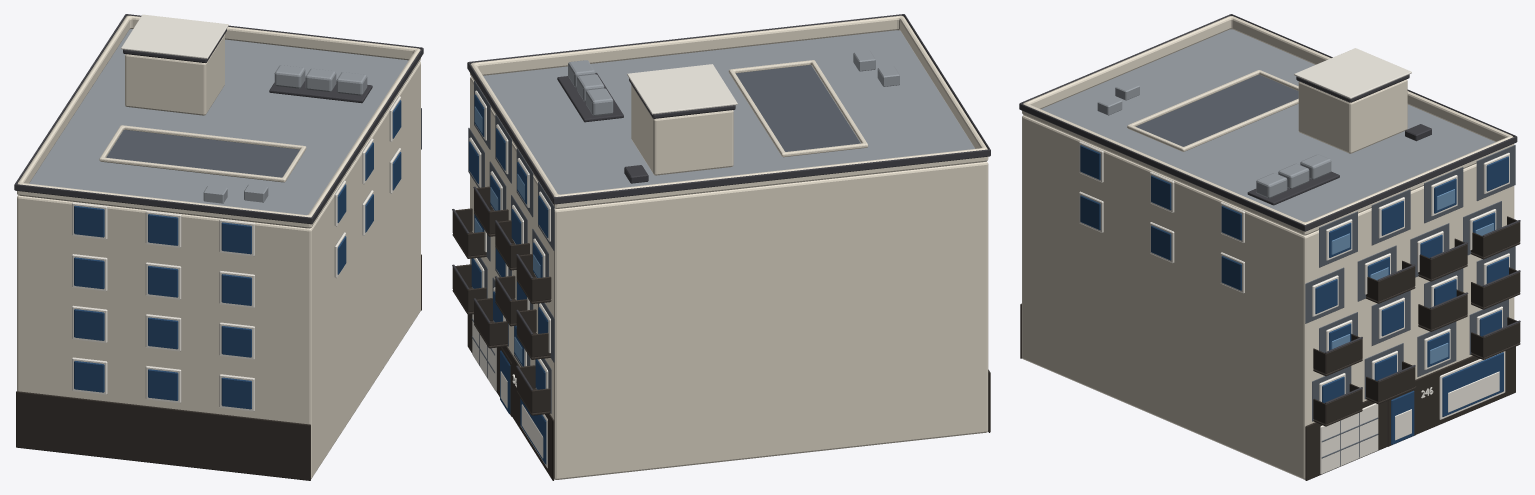
File: 246-ritch.optimized.glb
3 renders of one model, left to right at view 1: azimuth 30°, elevation 25°; view 2: azimuth 150°, elevation 25°; view 3: azimuth 270°, elevation 25°, orthographic. The views are drawn at different scales.
Parts seen in each view (by area): view 1: part_Toy_sand_Toy_steel, part_Toy_ink, part_Toy_sand, part_Toy_glass, part_Toy_trim, part_Toy_roofd, part_Toy_slate, part_Toy_steel; view 2: part_Toy_sand_Toy_steel, part_Toy_sand, part_Toy_ink, part_Toy_slate, part_Toy_roofd, part_Toy_trim, part_Toy_glass, part_Toy_steel, part_Toy_glass_Glow, part_Toy_trim_Glow; view 3: part_Toy_sand_Toy_steel, part_Toy_sand, part_Toy_slate, part_Toy_ink, part_Toy_glass, part_Toy_trim, part_Toy_roofd, part_Toy_steel, part_Toy_trim_Glow, part_Toy_glass_Glow.
Boxes of the visible parts, x1,y1,x2,y2 form: part_Toy_sand_Toy_steel: (17, 29, 420, 478); part_Toy_ink: (16, 254, 421, 480); part_Toy_sand: (17, 15, 420, 228); part_Toy_glass: (74, 100, 401, 409); part_Toy_trim: (72, 14, 400, 411); part_Toy_roofd: (14, 14, 423, 224); part_Toy_slate: (106, 108, 421, 177); part_Toy_steel: (203, 65, 367, 203); part_Toy_sand_Toy_steel: (470, 30, 988, 479); part_Toy_sand: (470, 15, 988, 208); part_Toy_ink: (452, 186, 990, 480); part_Toy_slate: (468, 65, 860, 413); part_Toy_roofd: (452, 14, 990, 390); part_Toy_trim: (469, 64, 737, 468); part_Toy_glass: (469, 94, 548, 464); part_Toy_steel: (568, 50, 899, 115); part_Toy_glass_Glow: (474, 106, 540, 363); part_Toy_trim_Glow: (500, 371, 543, 458); part_Toy_sand_Toy_steel: (1022, 29, 1514, 479); part_Toy_sand: (1022, 16, 1514, 235); part_Toy_slate: (1136, 74, 1515, 465); part_Toy_ink: (1020, 216, 1520, 480); part_Toy_glass: (1080, 145, 1508, 444); part_Toy_trim: (1079, 48, 1509, 474); part_Toy_roofd: (1019, 14, 1520, 403); part_Toy_steel: (1097, 81, 1331, 198); part_Toy_trim_Glow: (1395, 371, 1499, 440); part_Toy_glass_Glow: (1331, 189, 1493, 364).
Bounding box in the file's own units: 28.37 × 18.76 × 28.16.
